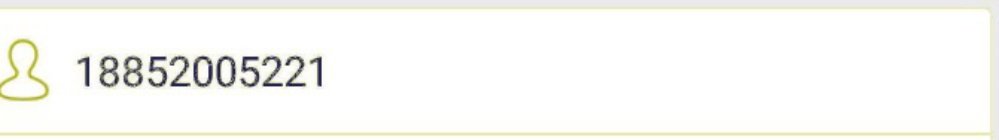EditText: (1, 1, 998, 139)
